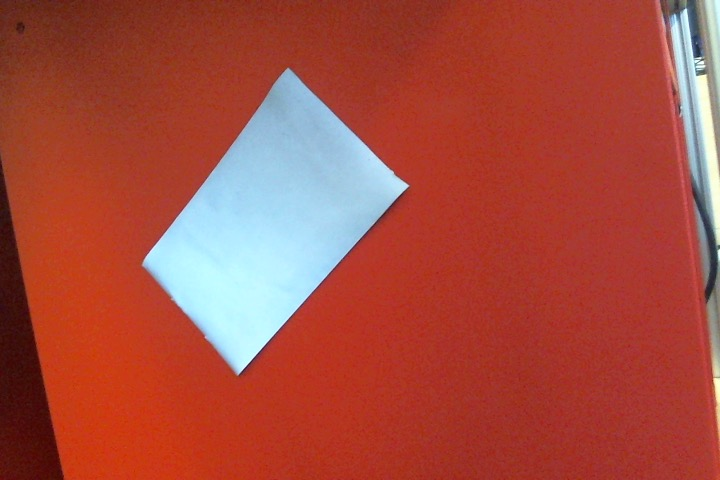Tape: (141, 67, 410, 377)
